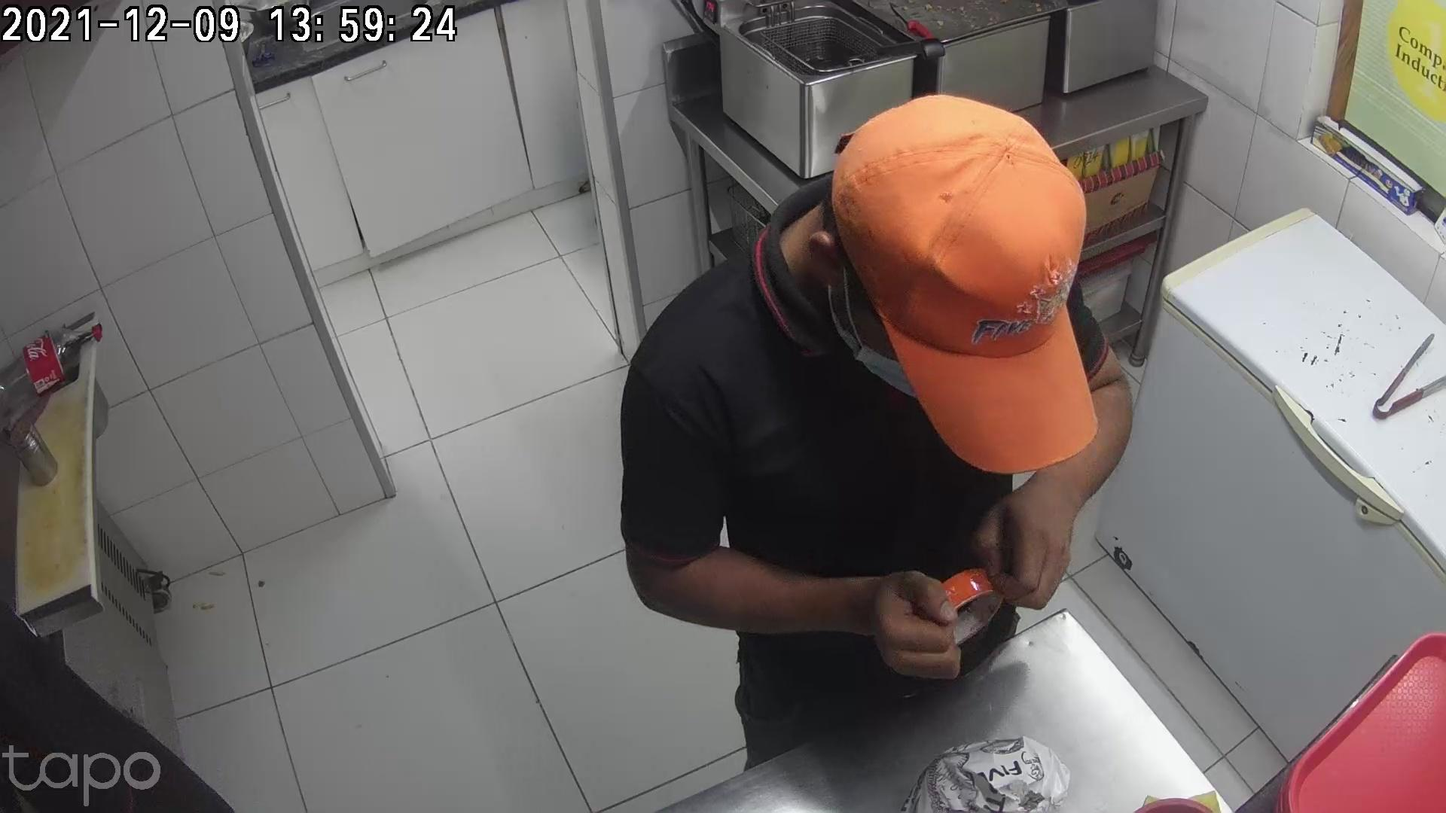no_gloves: (812, 573, 960, 680), (991, 480, 1075, 597)
